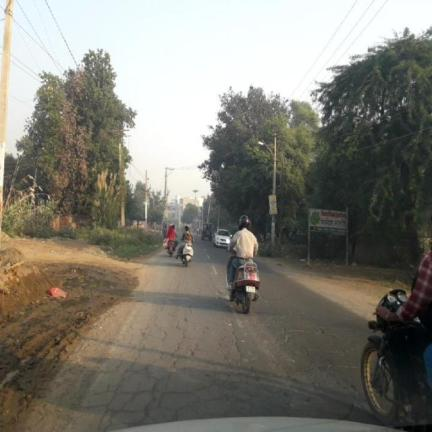Road: (25, 241, 373, 431)
